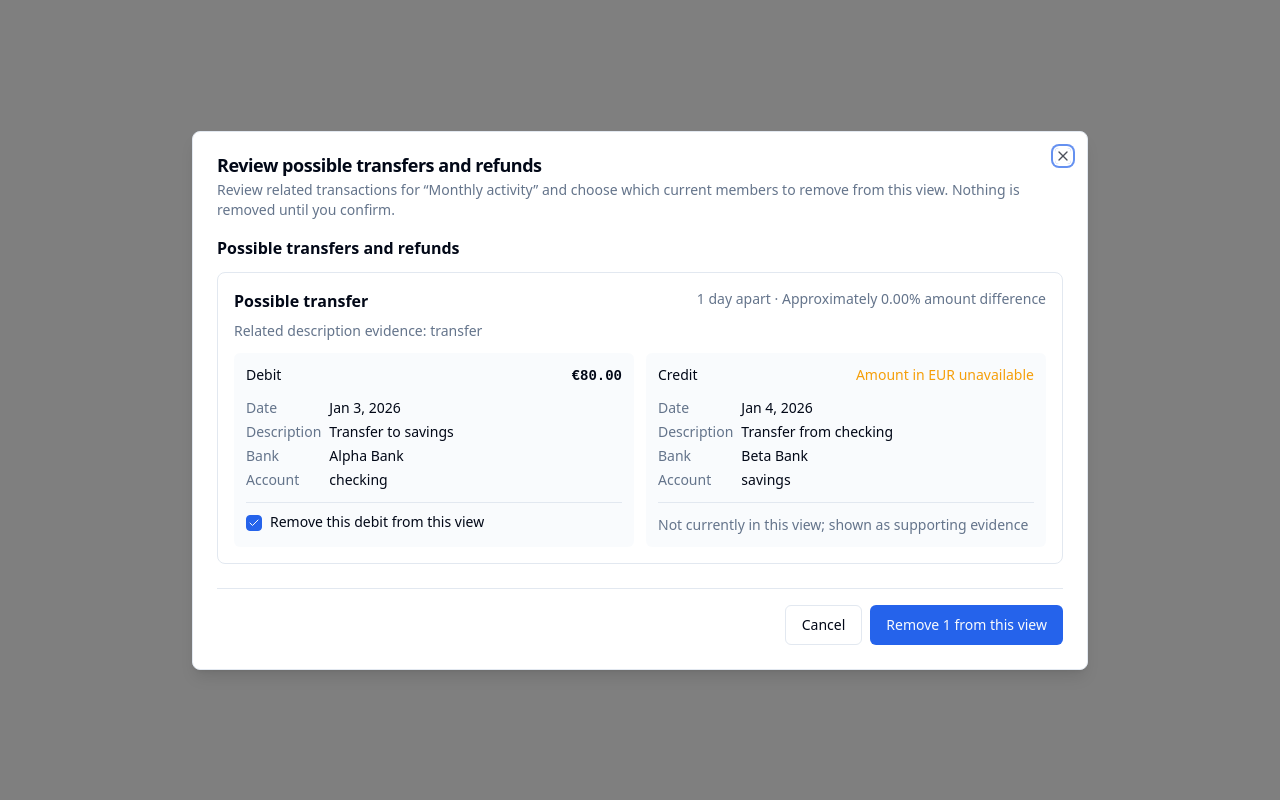
TransferRefundReviewDialog › shows a normalized dismissible mutation alert while retaining the dialog and selection
The width and height of the screenshot is (1280, 800).
Click the button "Remove 1 from this view": (967, 624) [870,604,1063,644]
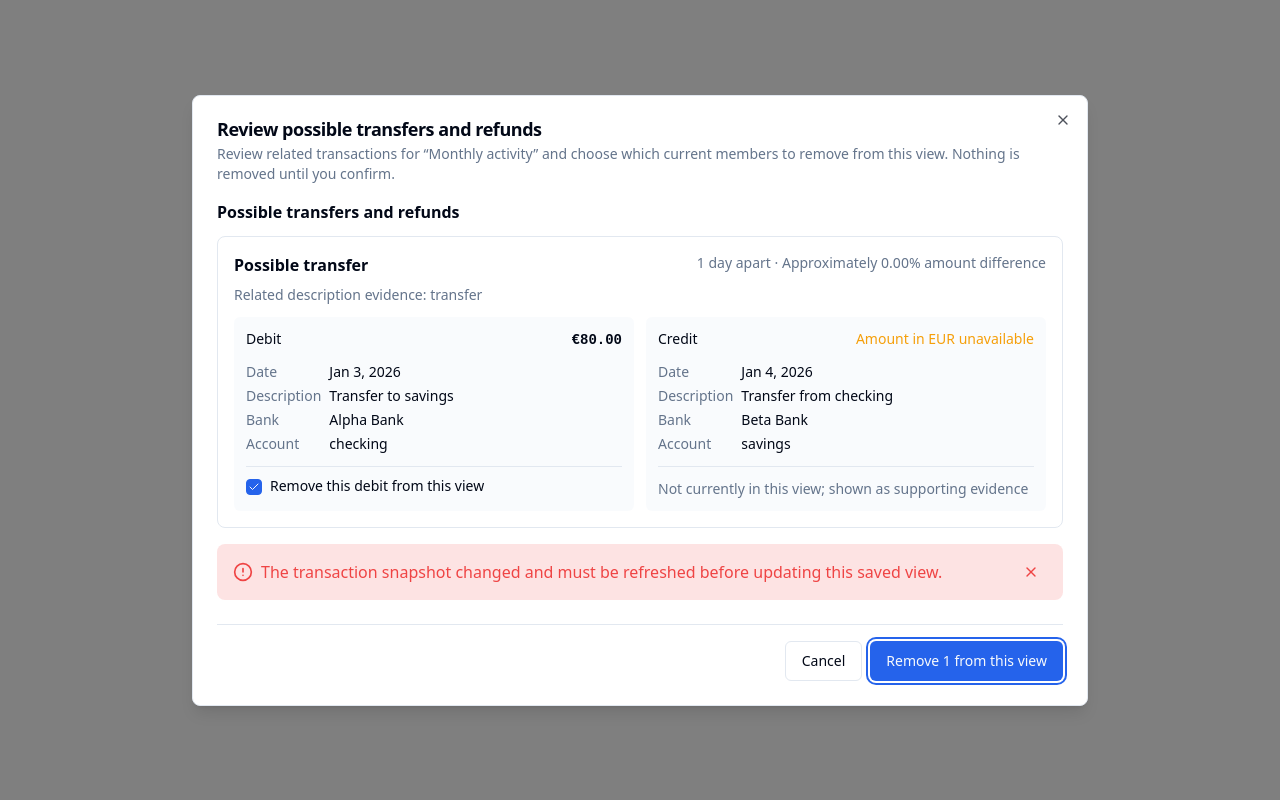
Expected: the checkbox named "Remove debit transaction 1 from this view" is checked, [246,478,262,494]
Result: the message shows "The transaction snapshot changed and must be refreshed before updating this saved view." at [261,560,942,582]
Click the button named "Dismiss message": (1031, 572) [1015,556,1047,588]
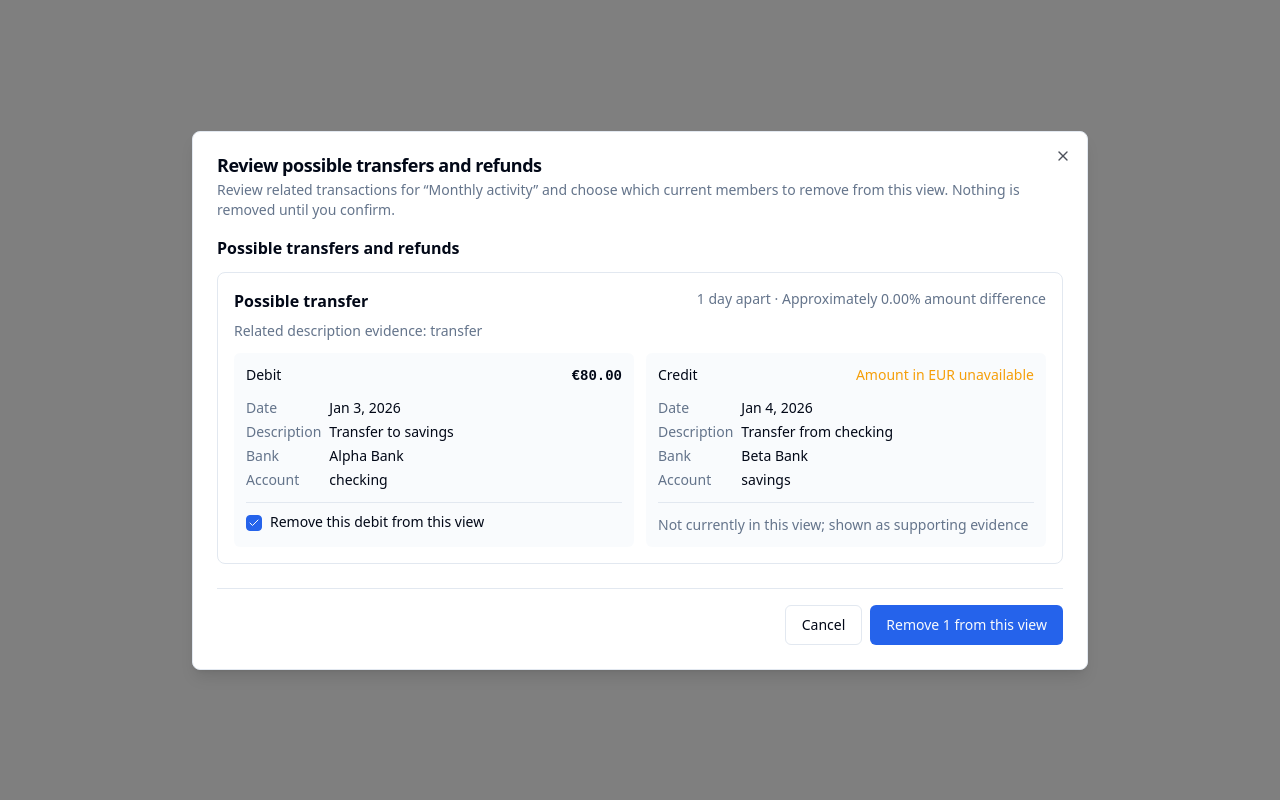
Expected: the checkbox named "Remove debit transaction 1 from this view" is checked, [246,514,262,530]
Result: the message is gone
